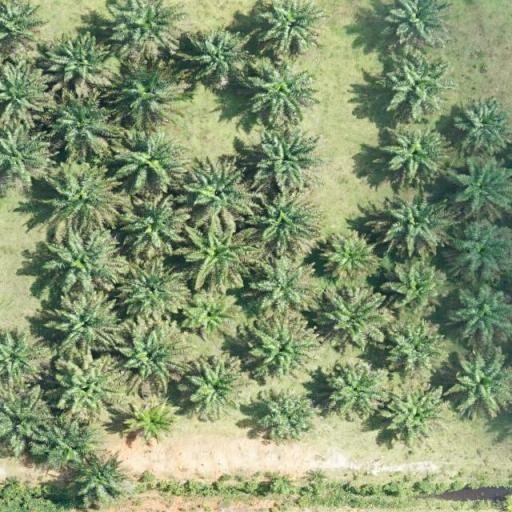Ganoderma: (136, 407, 167, 436)
